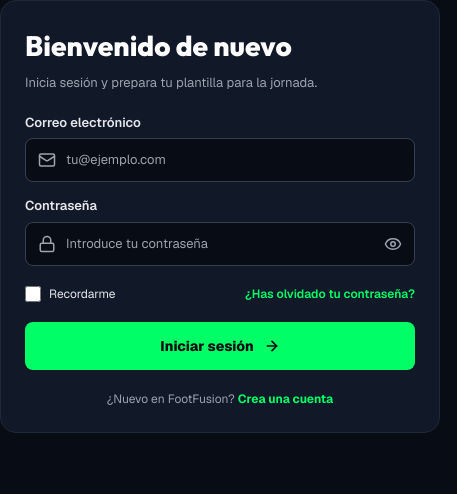
it: LoginPage › shows the field errors returned by the action
Type "apex@" into the field labelled "Correo electrónico" at (234, 160), box [66,150,402,170]
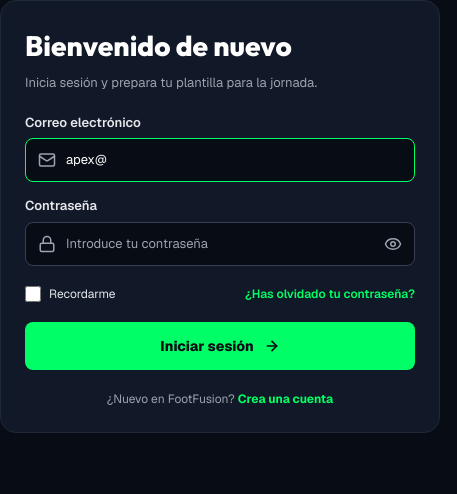
Type "x" into the password field labelled "Contraseña" at (220, 244), box [66,234,374,253]
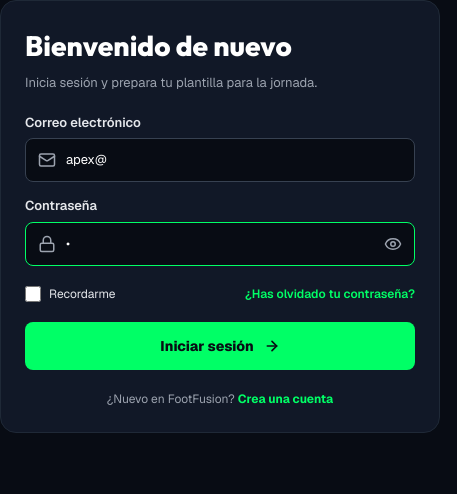
Click the button "Iniciar sesión" at (220, 346), box [25,322,415,370]
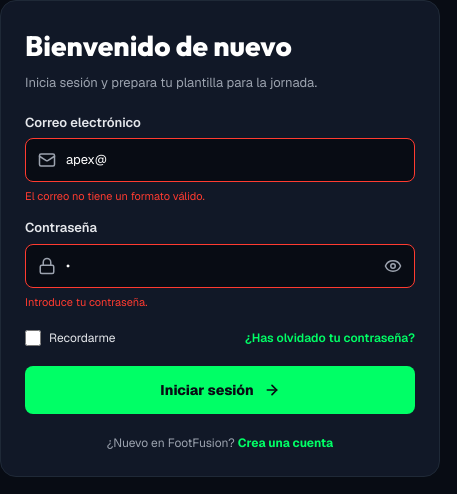
Expected: the text "El correo no tiene un formato válido." is shown, [25,189,205,203]
Expected: the text "Introduce tu contraseña." is shown, [25,294,148,308]
